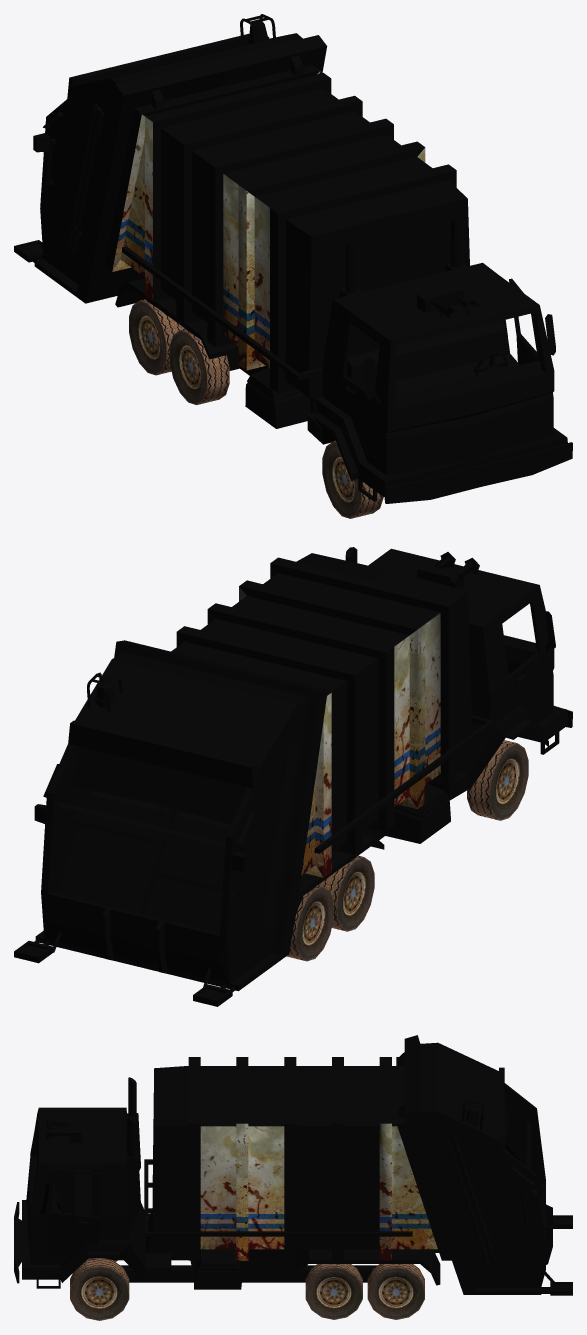
The model's file is mack_mr_garbage_truck.glb.
3 renders of one model, top to bottom at view 1: azimuth 30°, elevation 25°; view 2: azimuth 150°, elevation 25°; view 3: azimuth 270°, elevation 25°, orthographic. The views are drawn at different scales.
Parts seen in each view (by area): view 1: Car_Body, RB_Wheel, RB_Wheel1, RF_Wheel; view 2: Car_Body, RF_Wheel, RB_Wheel, RB_Wheel1; view 3: Car_Body, LF_Wheel, LB_Wheel1, LB_Wheel.
Part boxes in pixels (x1,y1,x2,y2): Car_Body: (14,14,572,503); RB_Wheel: (169,329,229,404); RB_Wheel1: (129,299,185,375); RF_Wheel: (322,440,383,518); Car_Body: (14,547,572,1006); RF_Wheel: (467,740,528,820); RB_Wheel: (318,855,374,931); RB_Wheel1: (286,885,333,961); Car_Body: (14,1035,572,1295); LF_Wheel: (70,1258,129,1320); LB_Wheel1: (367,1264,424,1319); LB_Wheel: (305,1264,362,1319).
Bounding box in the file's own units: 3.45 × 4.46 × 10.43.
1 material, 1 textured.
